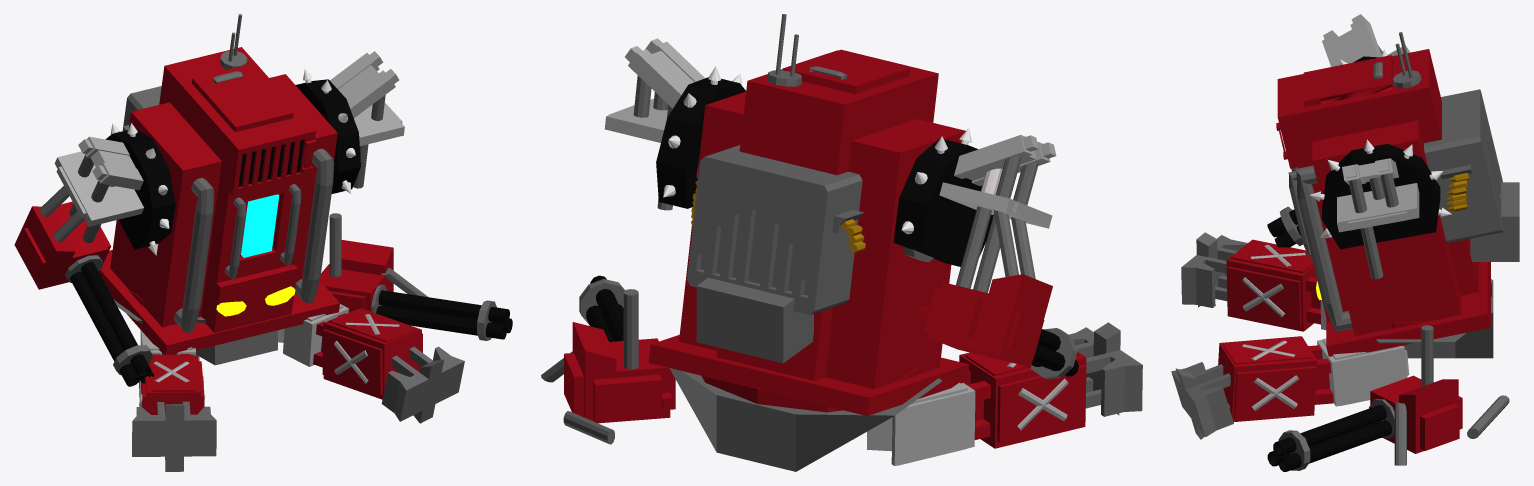
The model's file is brokengy.fbx.
The picture shows the model from 3 angles, left to right: view 1: azimuth 30°, elevation 25°; view 2: azimuth 150°, elevation 25°; view 3: azimuth 270°, elevation 25°; orthographic projection. The views are drawn at different scales.
Visible parts, largest first — view 1: Cylinder.010; view 2: Cylinder.010; view 3: Cylinder.010.
Part boxes in pixels (left/top/right/bottom): Cylinder.010: left=14, top=14, right=512, bottom=471; Cylinder.010: left=541, top=14, right=1142, bottom=471; Cylinder.010: left=1171, top=14, right=1519, bottom=471.
Bounding box in the file's own units: 910 × 737 × 644.
